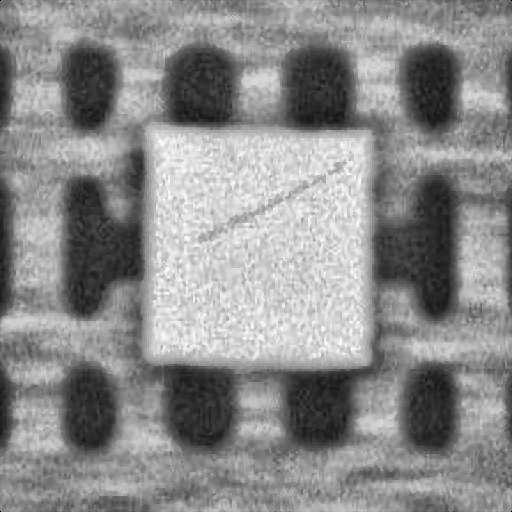DIE_CRACK: (294, 110, 506, 159)
